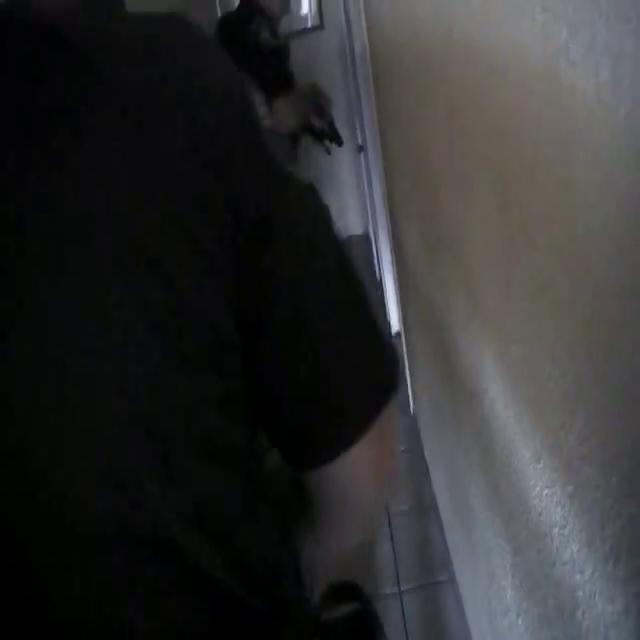gun: (306, 78, 348, 160)
